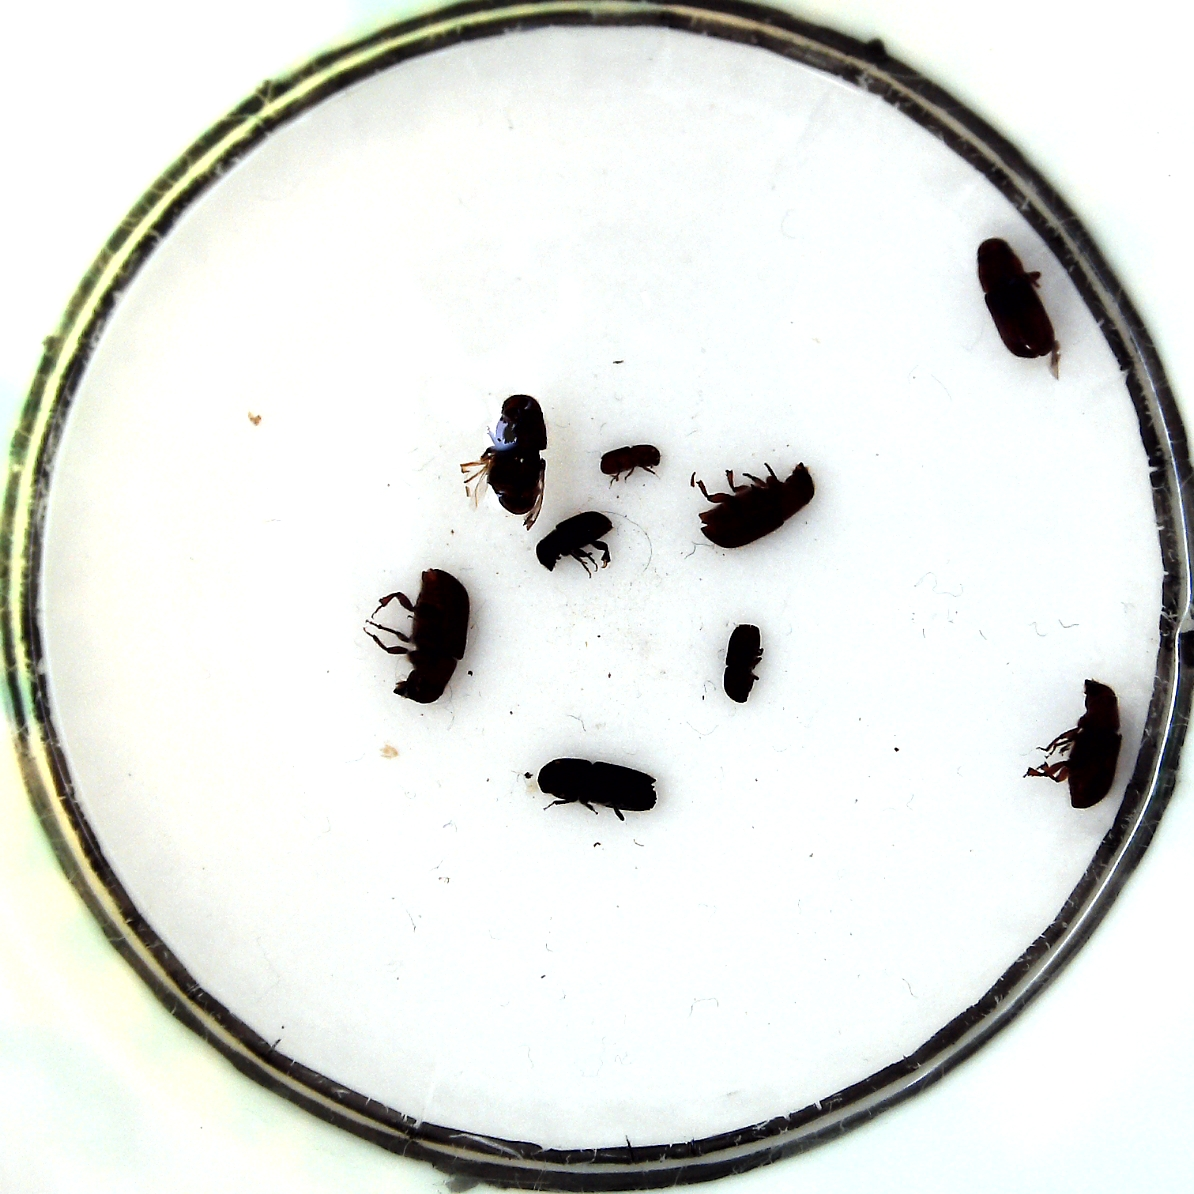Boerner: (532, 756, 657, 823)
Leconte: (364, 567, 470, 710), (1022, 675, 1125, 810), (458, 393, 548, 534), (975, 234, 1060, 362), (693, 463, 815, 550)
Linnaeus: (721, 622, 766, 705)
acuminatus: (600, 442, 662, 489)
armandi: (532, 512, 625, 581)
